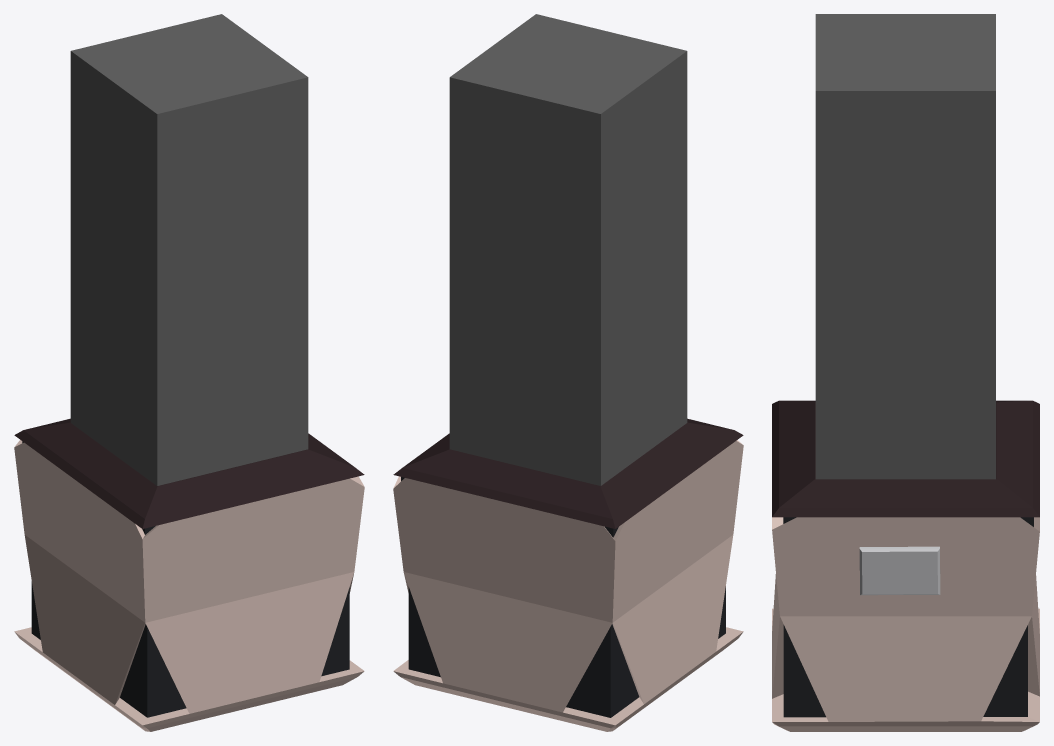
The model's file is head.glb.
3 renders of one model, left to right at view 1: azimuth 30°, elevation 25°; view 2: azimuth 150°, elevation 25°; view 3: azimuth 270°, elevation 25°, orthographic. The views are drawn at different scales.
Parts seen in each view (by area): view 1: Cube.001, Cube; view 2: Cube.001, Cube; view 3: Cube.001, Cube, Cube.002.
Part boxes in pixels (bbox=[...]): Cube.001: bbox=[70, 14, 308, 485]; Cube: bbox=[14, 418, 364, 731]; Cube.001: bbox=[449, 14, 687, 485]; Cube: bbox=[393, 418, 743, 731]; Cube.001: bbox=[815, 14, 995, 479]; Cube: bbox=[772, 400, 1039, 731]; Cube.002: bbox=[859, 546, 940, 595].
Bounding box in the file's own units: 5.57 × 14.52 × 5.49.
